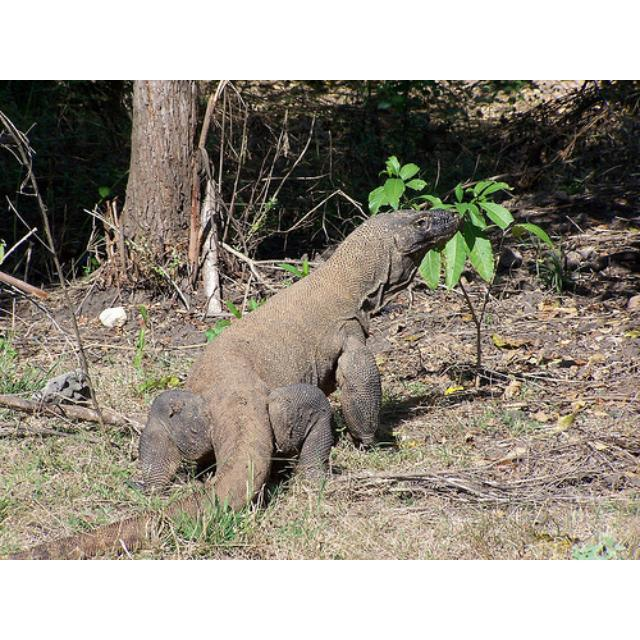KomodoDragon: (2, 209, 458, 557)
